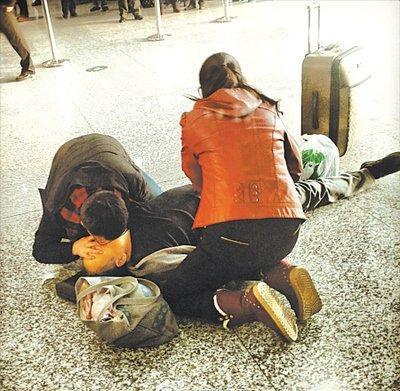Fall-Detected: (116, 41, 365, 342)
